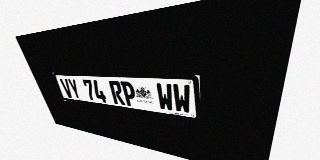4: (91, 80, 107, 103)
7: (82, 79, 97, 101)
P: (120, 81, 138, 107)
R: (108, 81, 125, 105)
V: (59, 78, 74, 98)
W: (172, 84, 191, 114), (156, 83, 174, 112)
Y: (67, 79, 82, 99)
